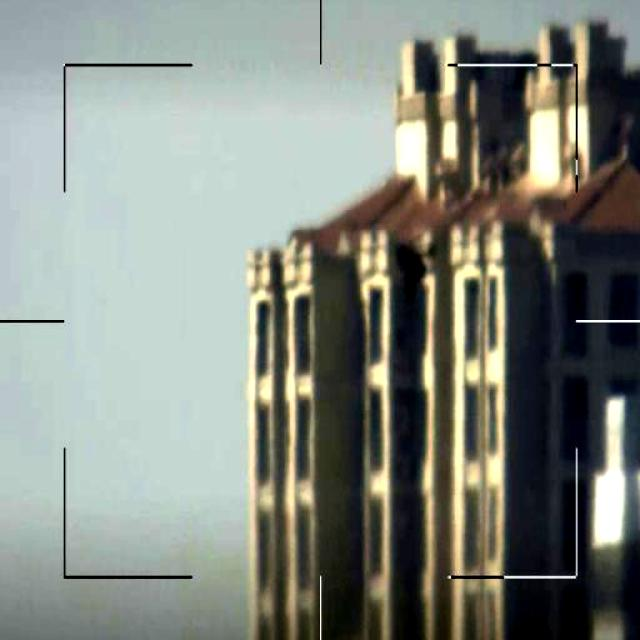bird: (396, 238, 448, 292)
